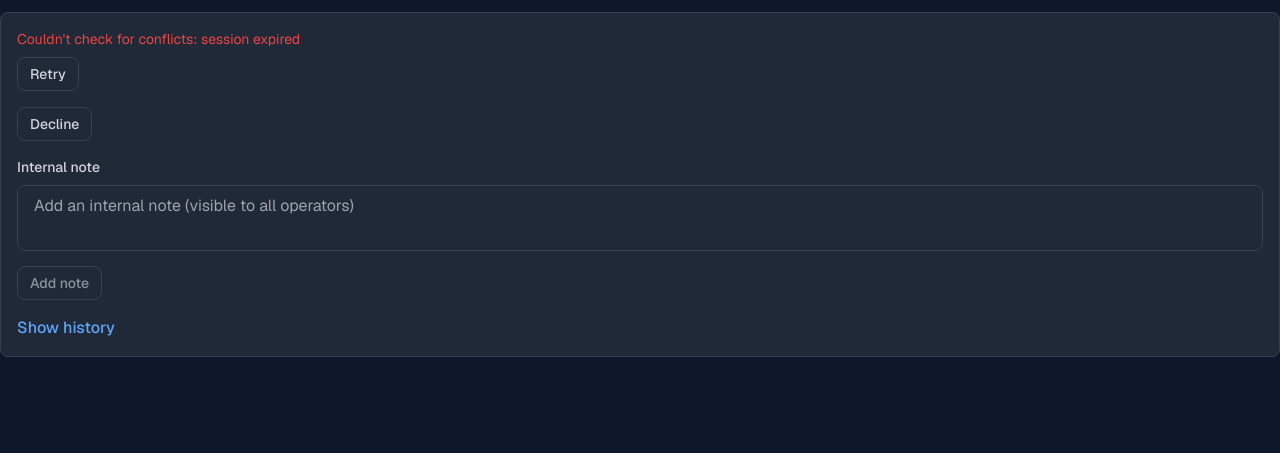
Test: AccessRequestActionsPanel — conflict-gated approval › shows a retryable error instead of hanging on 'Checking for conflicts…' when the pre-check rejects outright
The image size is (1280, 453).
Expected: the element with test id "access-request-conflict-check-error" is shown, [17,30,300,91]
Expected: the element with test id "access-request-conflict-check-error" shows "session expired", [201,30,300,48]
Click the button "Retry". click: [48, 74]
box: [17,57,79,91]
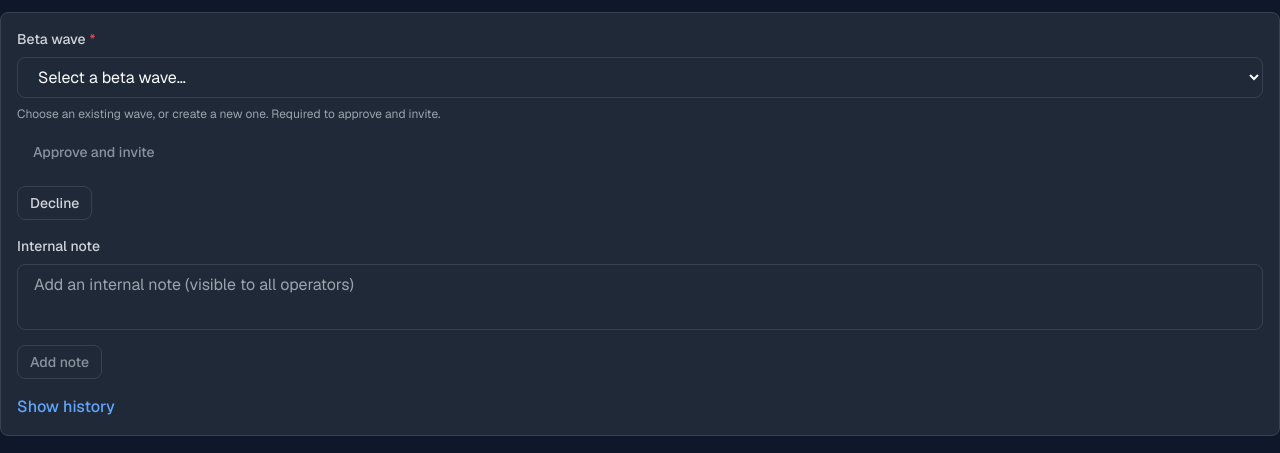
Expected: the element with test id "access-request-approve-section" is shown, [17,29,1263,170]
